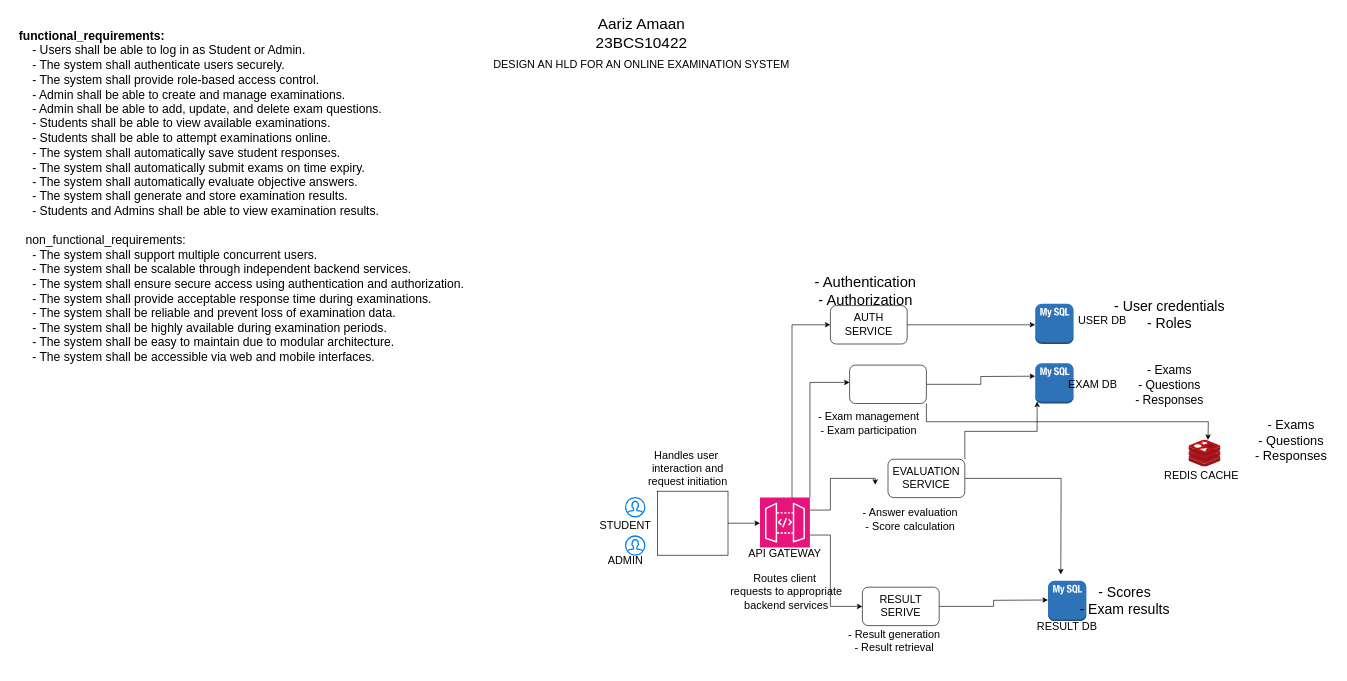
This 1347x681 diagram has some shape labels left out. Each missing label, with the centre of its shape:
"EXAM SERVICE" belongs at [887,384].
"Presentation Layer WEB / MOBILE UI" belongs at [692,523].
